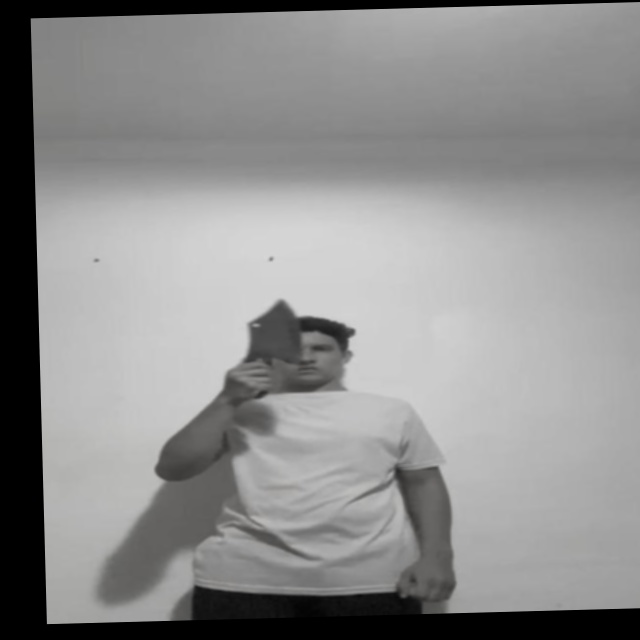Sharp-Object: (243, 300, 301, 363)
